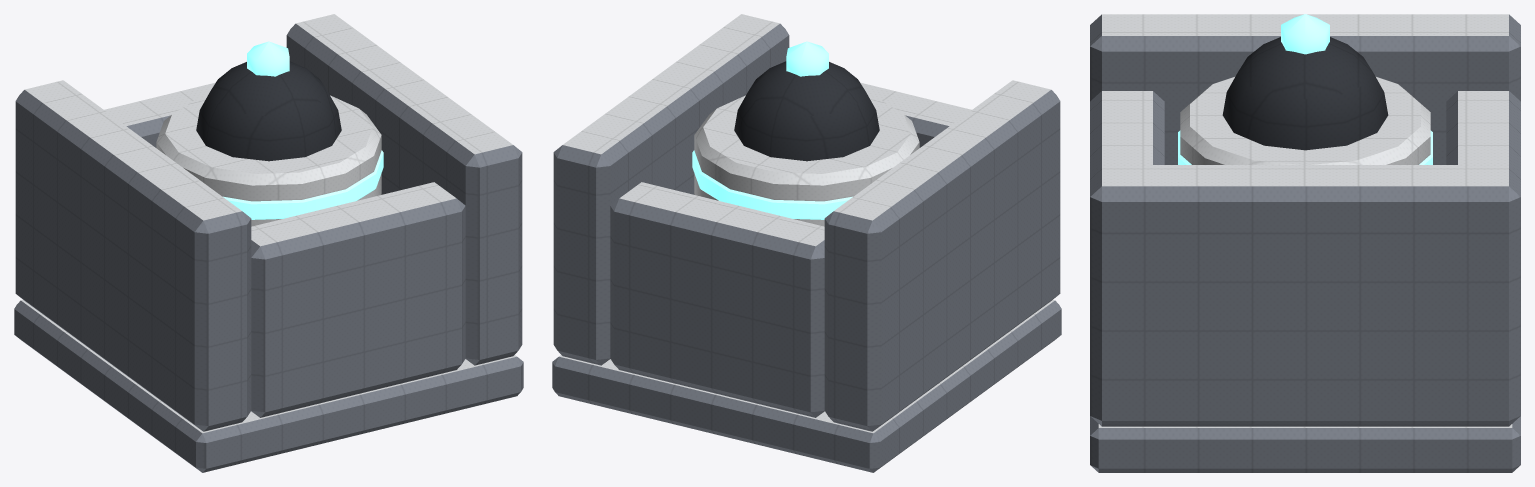
The model's file is R4X_DeployableShieldGenerator_LOD1.glb.
3 renders of one model, left to right at view 1: azimuth 30°, elevation 25°; view 2: azimuth 150°, elevation 25°; view 3: azimuth 270°, elevation 25°, orthographic. The views are drawn at different scales.
Visible parts, largest first — view 1: R4X_DeployableShieldGenerator_LOD1; view 2: R4X_DeployableShieldGenerator_LOD1; view 3: R4X_DeployableShieldGenerator_LOD1.
Part boxes in pixels (box(x1,y1,x2,y2)): R4X_DeployableShieldGenerator_LOD1: box(14, 14, 523, 472); R4X_DeployableShieldGenerator_LOD1: box(552, 14, 1061, 472); R4X_DeployableShieldGenerator_LOD1: box(1090, 14, 1520, 472).
Size of the model in its own units: 0.52 by 0.495 by 0.52.
4 materials, 3 textured.
